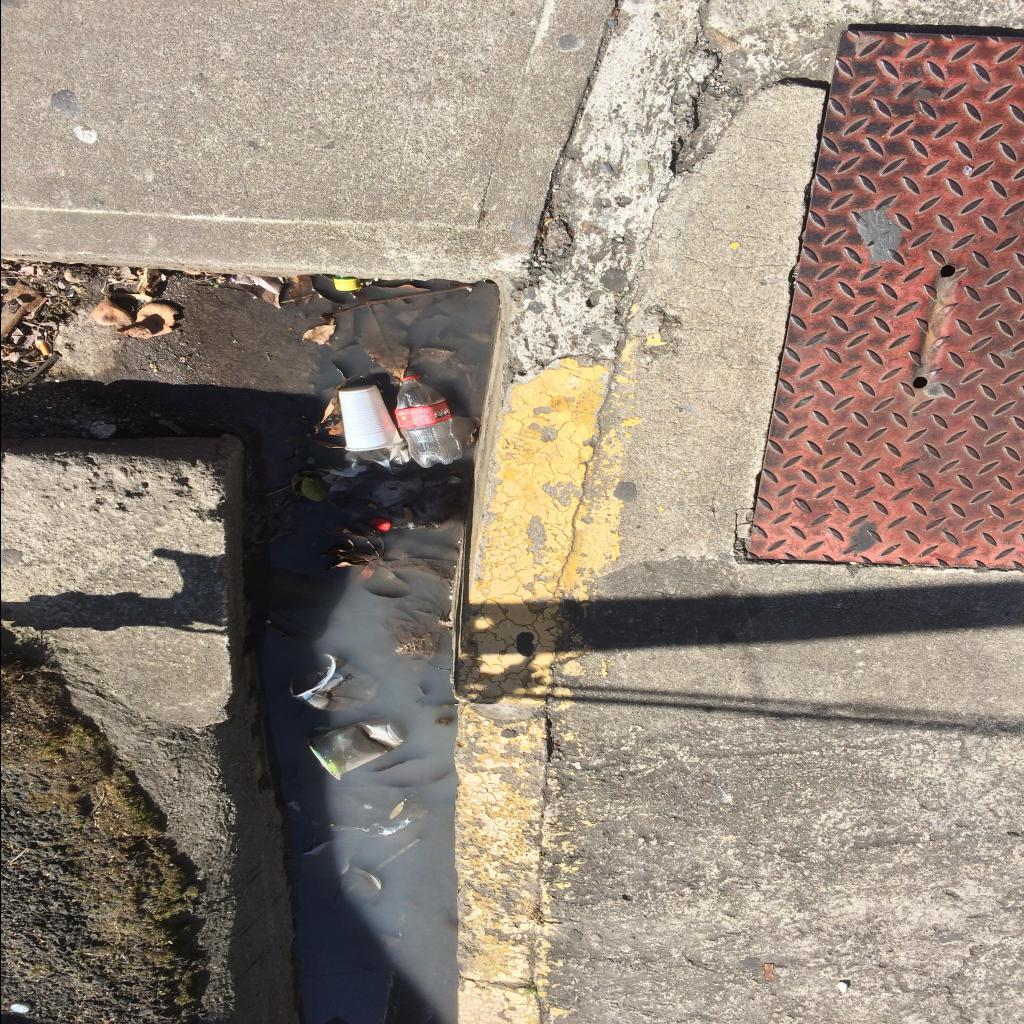Cigarette: (35, 340, 49, 356)
Clear plastic bottle: (394, 368, 462, 468)
Disposable plastic cup: (306, 718, 408, 780), (288, 654, 376, 712), (337, 385, 403, 451)
Plastic bottle cap: (368, 518, 390, 532), (334, 281, 360, 291)
Plastic lid: (341, 866, 381, 896)
Plastic straw: (368, 838, 420, 876)
Single-use carrier bag: (315, 442, 458, 526)
